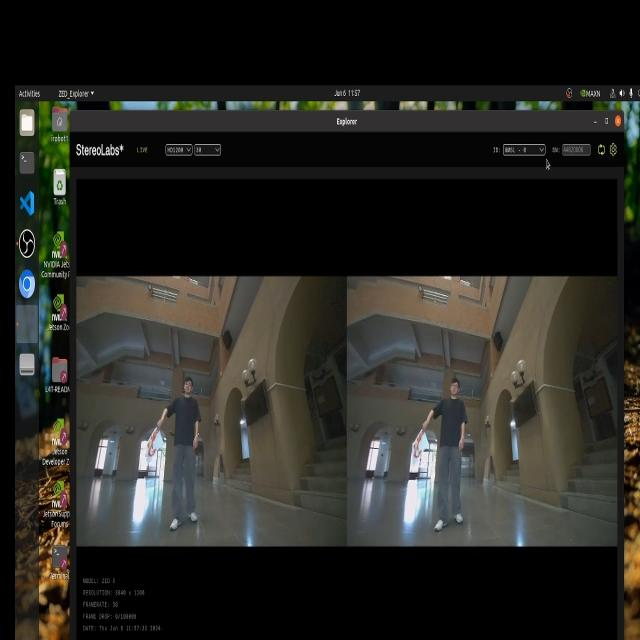red: (142, 422, 169, 457), (412, 426, 426, 461)
